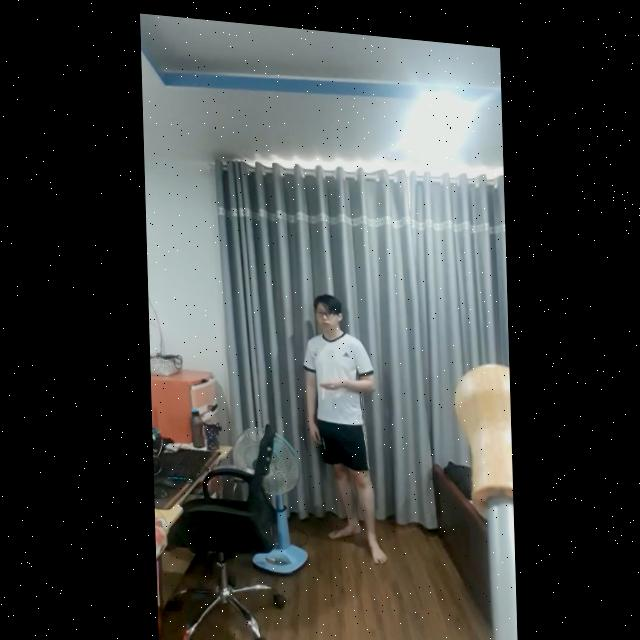cigarette: (319, 382, 324, 394)
